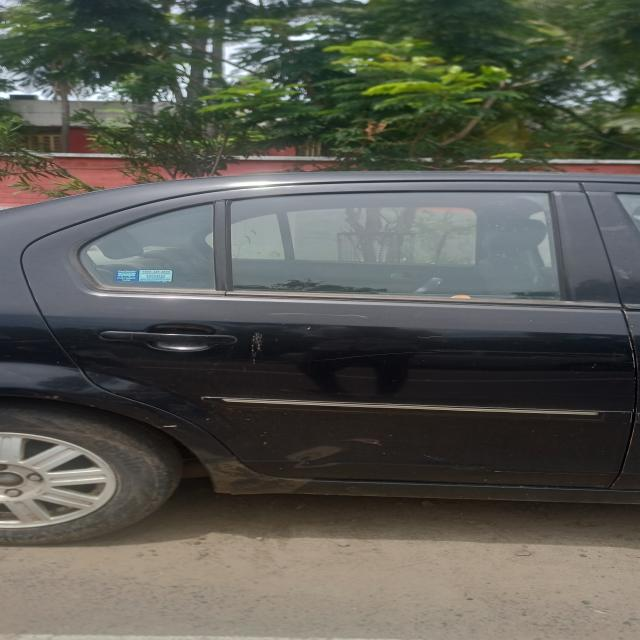scratch: (222, 348, 633, 364), (483, 468, 612, 483), (258, 312, 368, 319), (406, 454, 459, 464), (341, 438, 394, 448), (404, 332, 456, 341)
